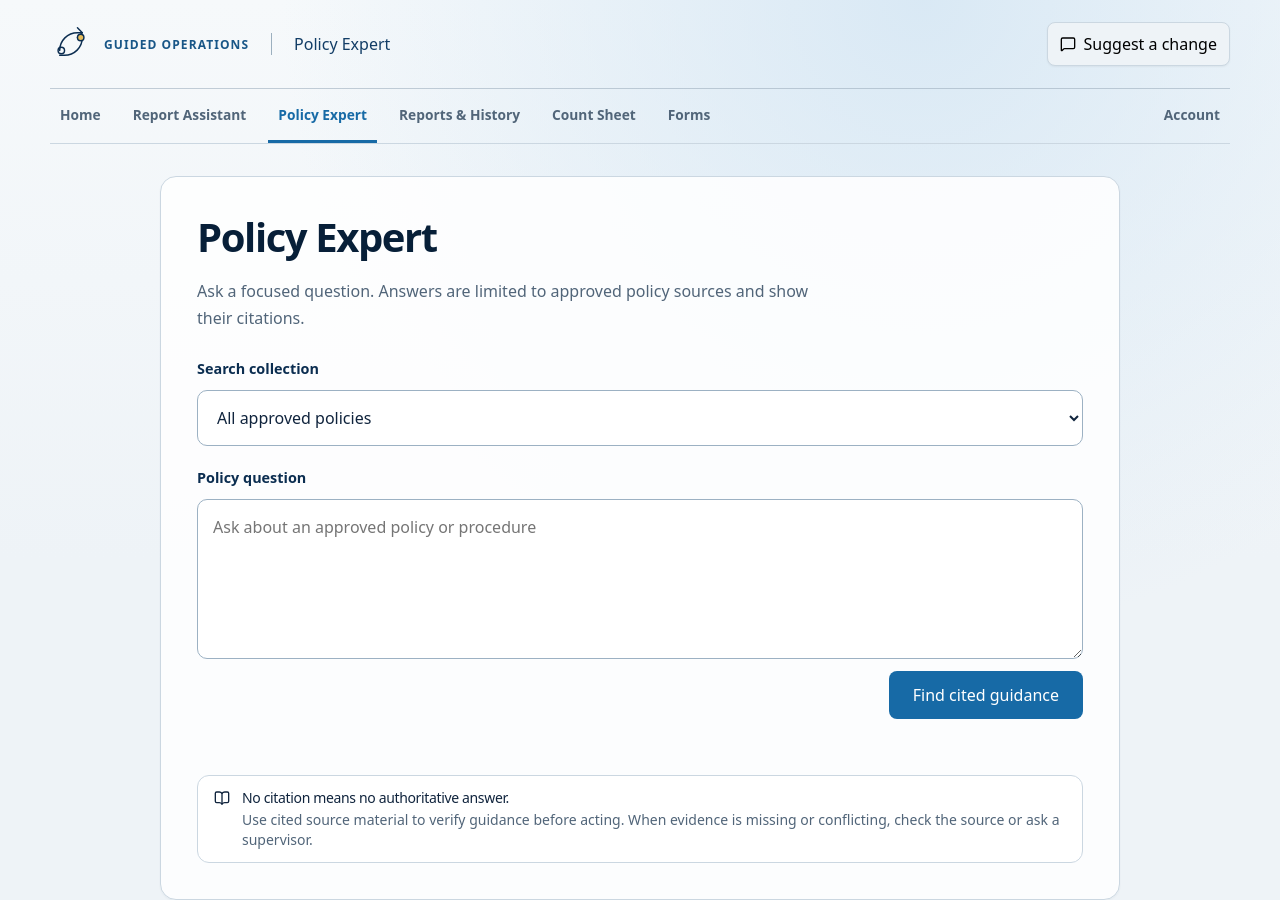
Test: PolicyExpert › keeps a question and offers separate-tab sign-in after session expiration
This screenshot has width=1280, height=900.
Type "Fictional policy question?" into the text box labelled "Policy question" at (640, 579), box 197,499 -> 1083,659
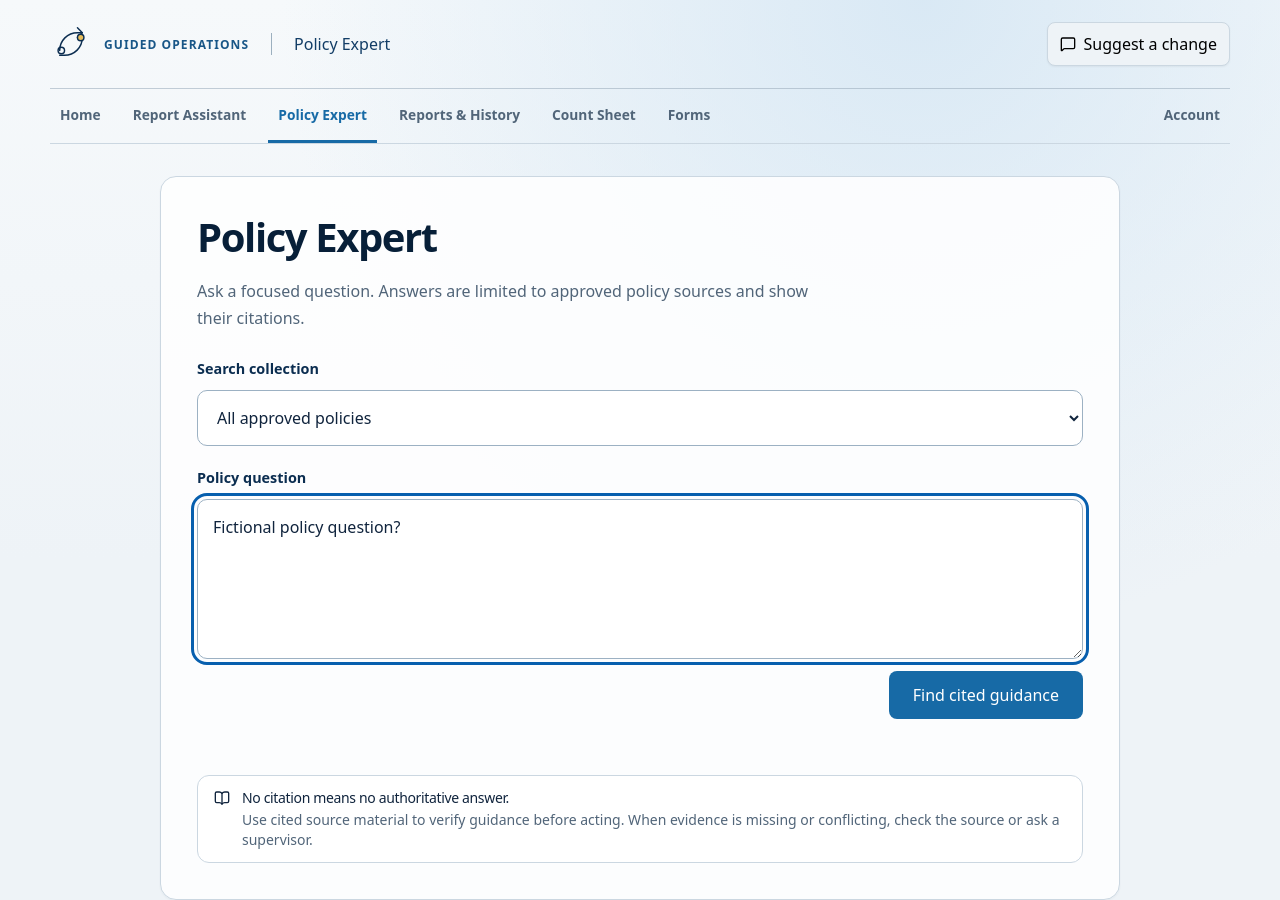
Click the button "Find cited guidance" at (986, 695), box 889,671 -> 1083,719
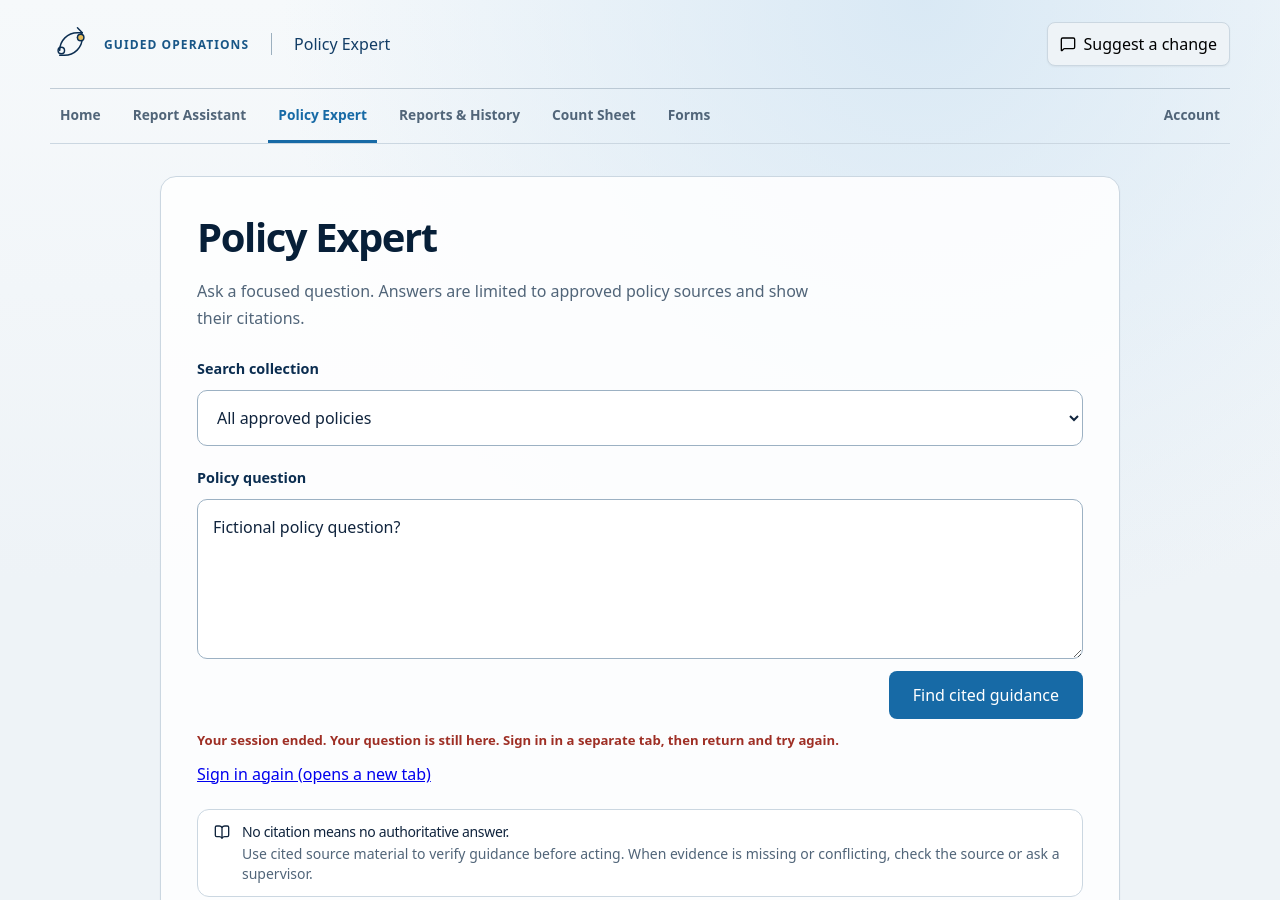
Expected: the text "Your session ended" is shown, 197,731 -> 839,749
